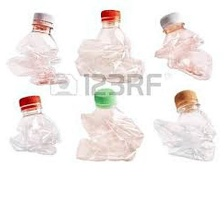bottle: (71, 8, 148, 88), (75, 86, 146, 166), (3, 9, 71, 91), (151, 88, 224, 164), (151, 8, 219, 81), (5, 93, 67, 160)
